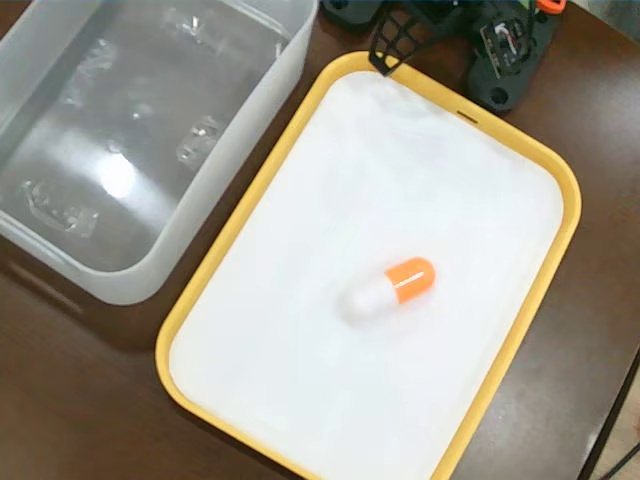pill: (342, 254, 437, 323)
